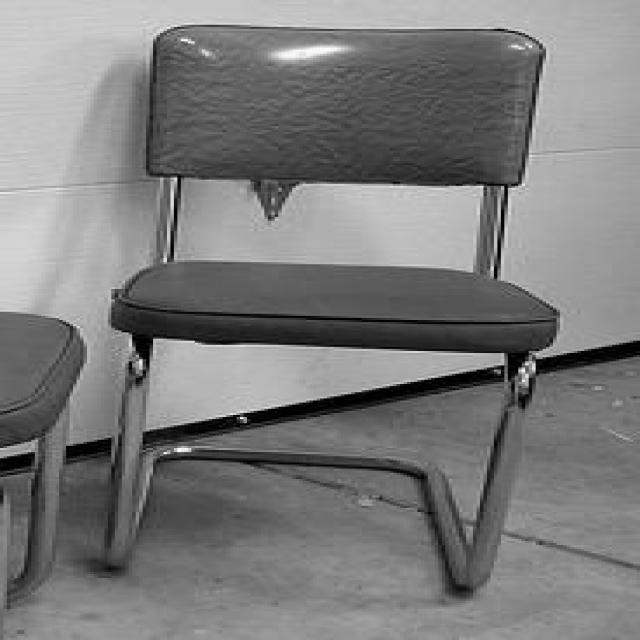chair: (89, 23, 572, 595)
